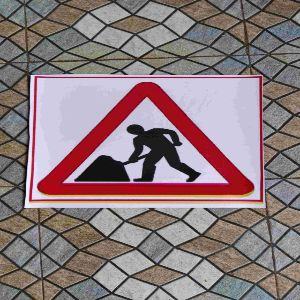men at work: (29, 77, 261, 203)
